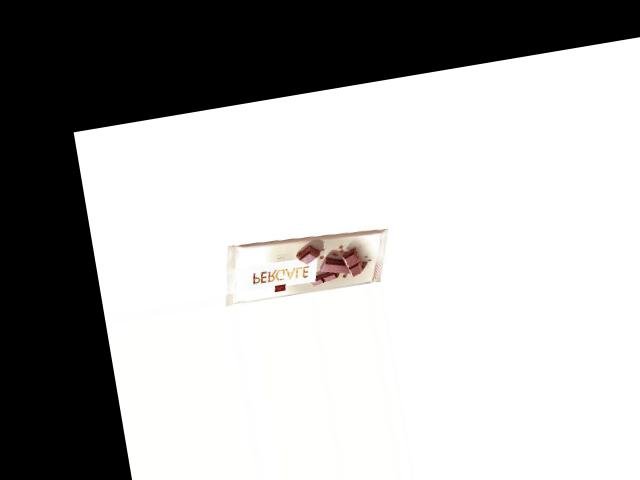chocolate: (214, 221, 399, 307)
